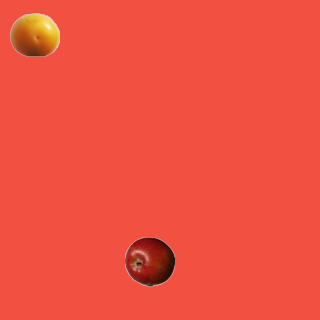Apple Braeburn: (124, 236, 174, 286)
Cherry Wax Yellow: (9, 9, 59, 59)
